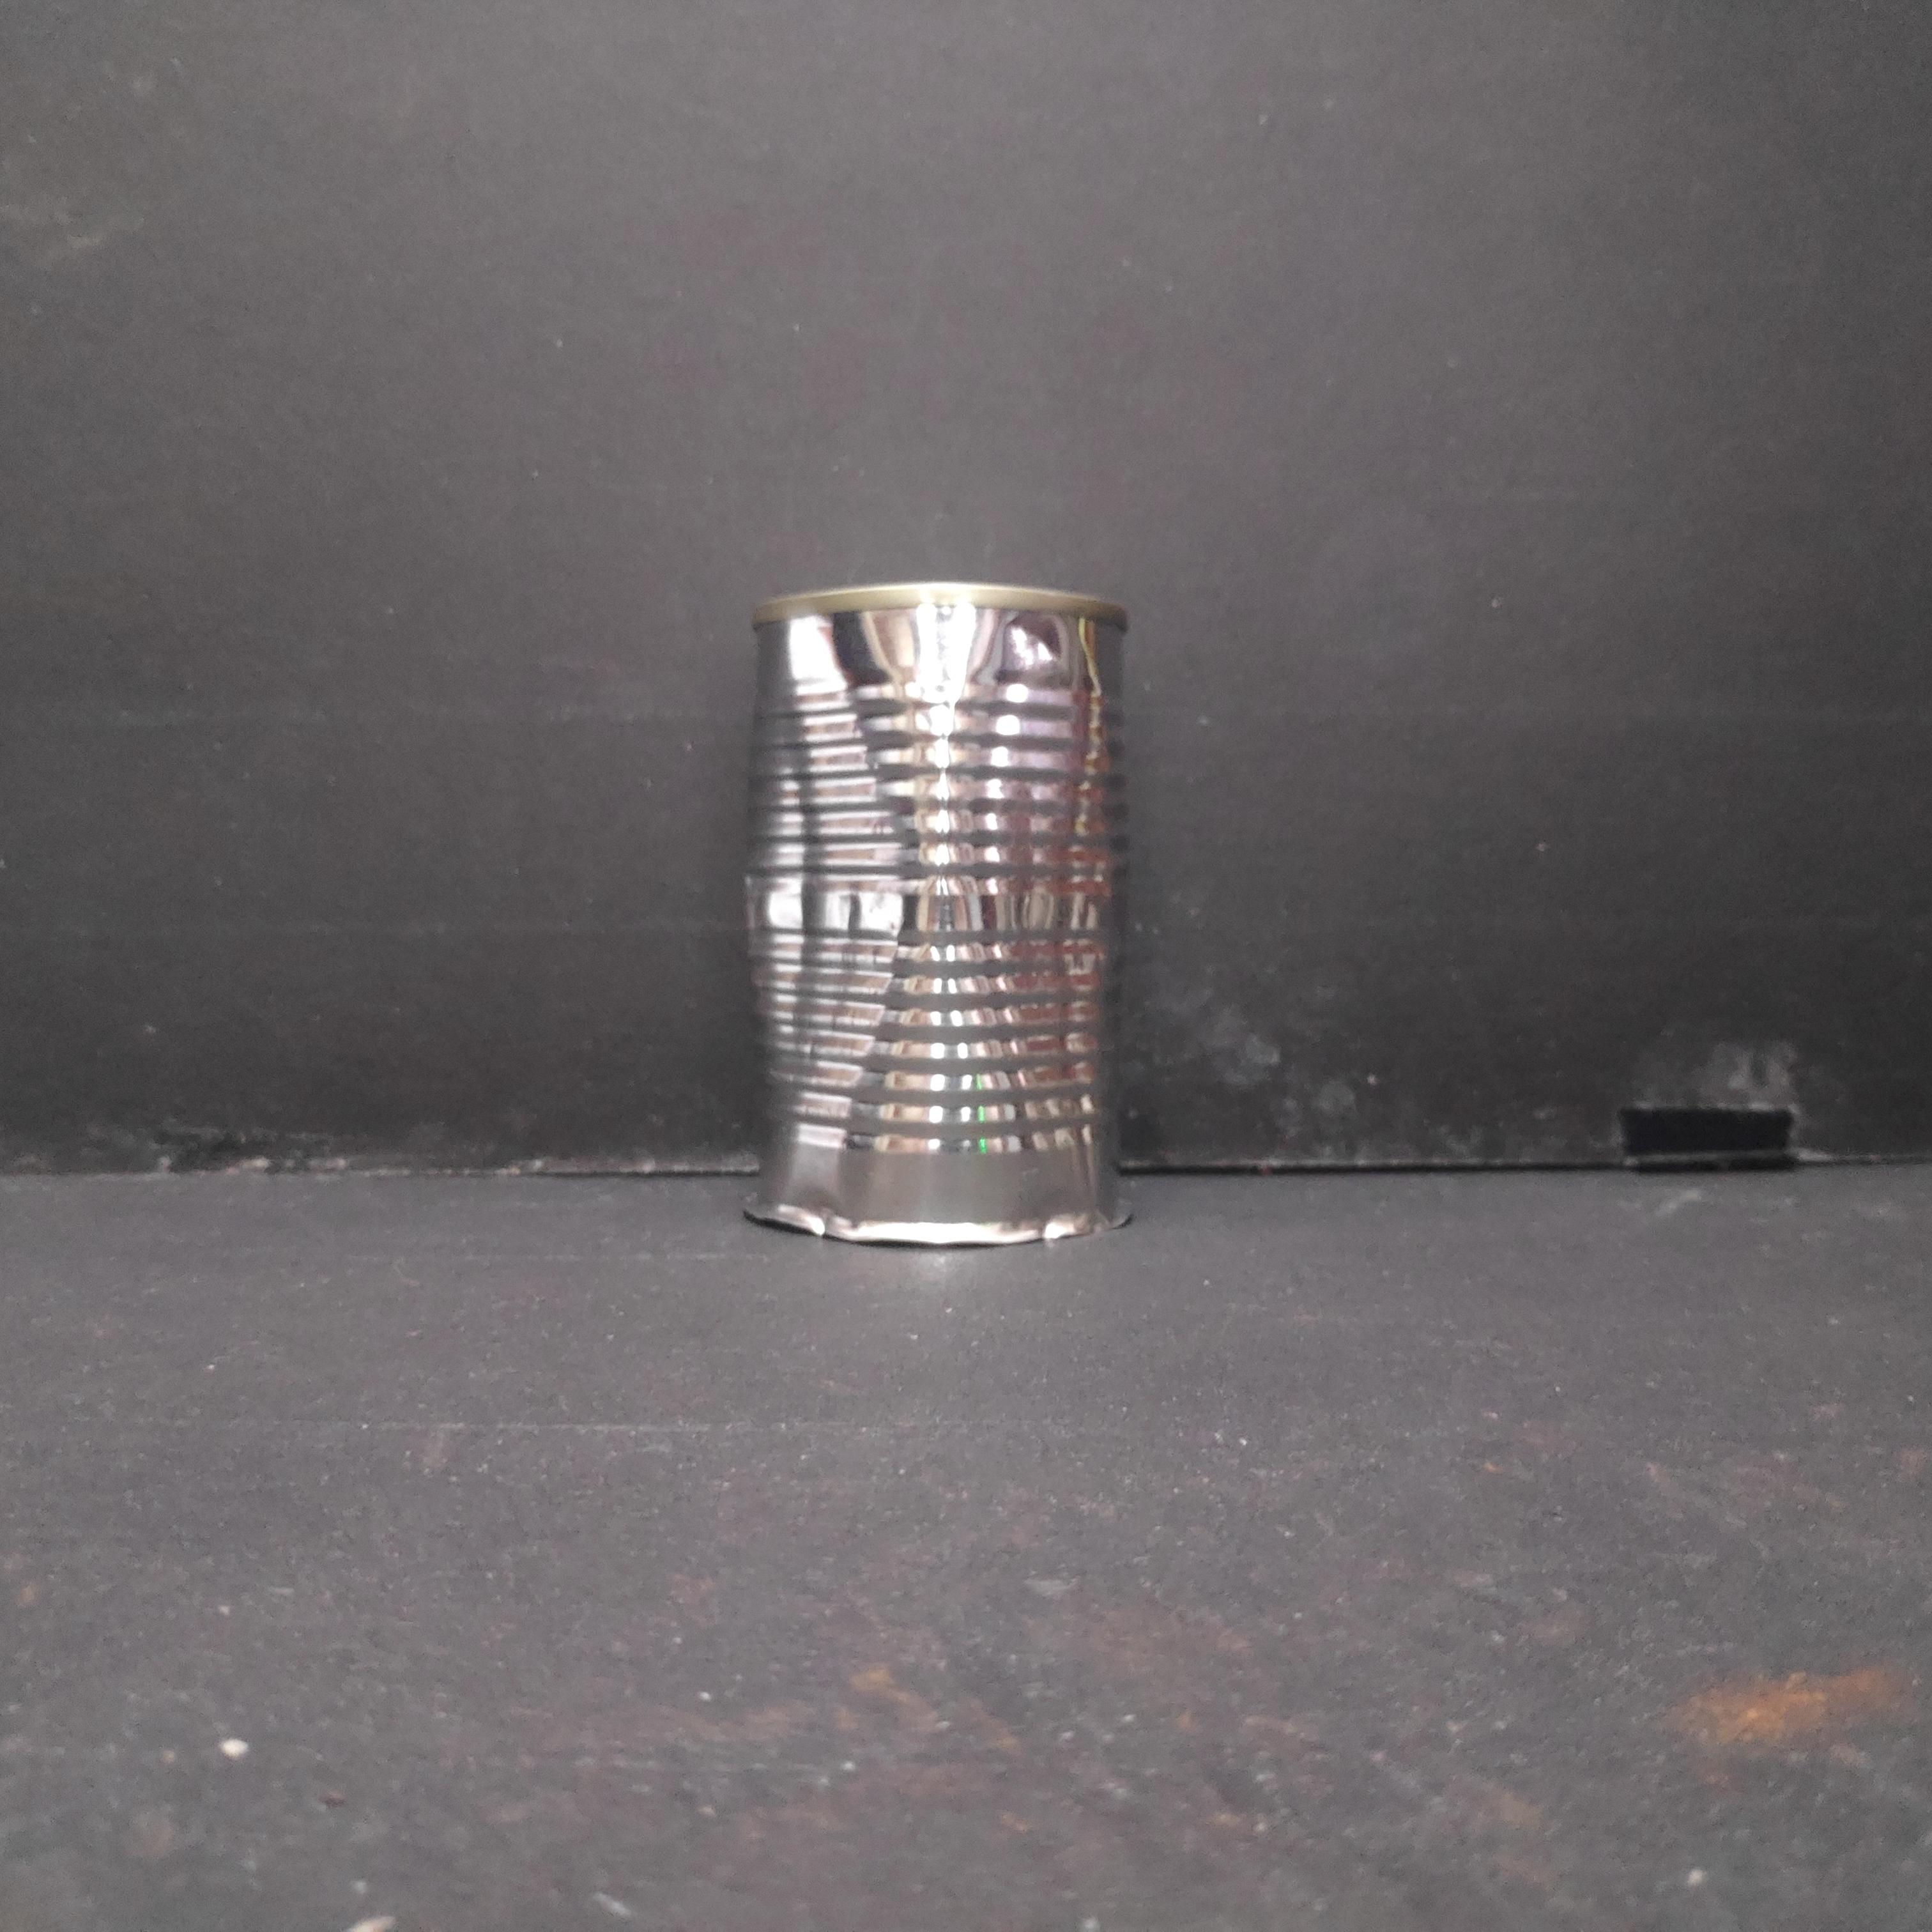Minor Defect: (729, 579, 1141, 1254)
